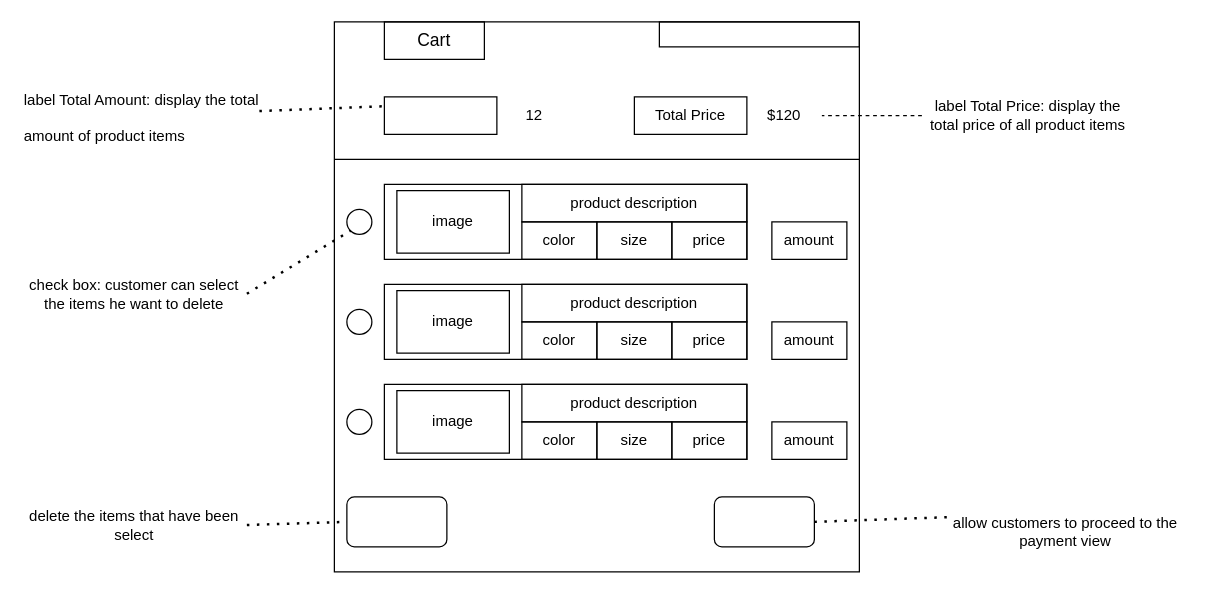
Some shapes in this 1205 by 594 pixel diagram are drawn without their labels. The shapes that lost their labels are listed below. From the top down, each one's centre as x and y in pixels, then its label:
At pixel 758 34: "Online Ordering System".
At pixel 440 115: "Total Amount".
At pixel 396 521: "delete button".
At pixel 763 521: "pay button".
